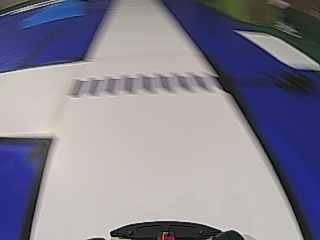CrossWalk: (73, 71, 212, 97)
